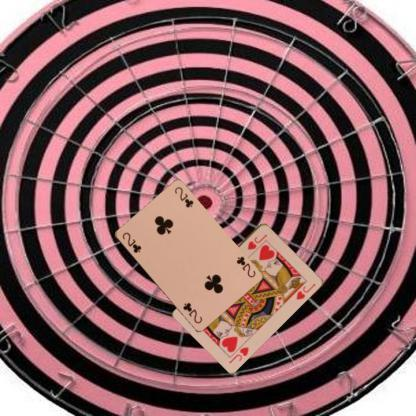2c: (234, 254, 256, 280), (119, 230, 142, 254)
Jh: (226, 344, 250, 364), (246, 231, 268, 251)
